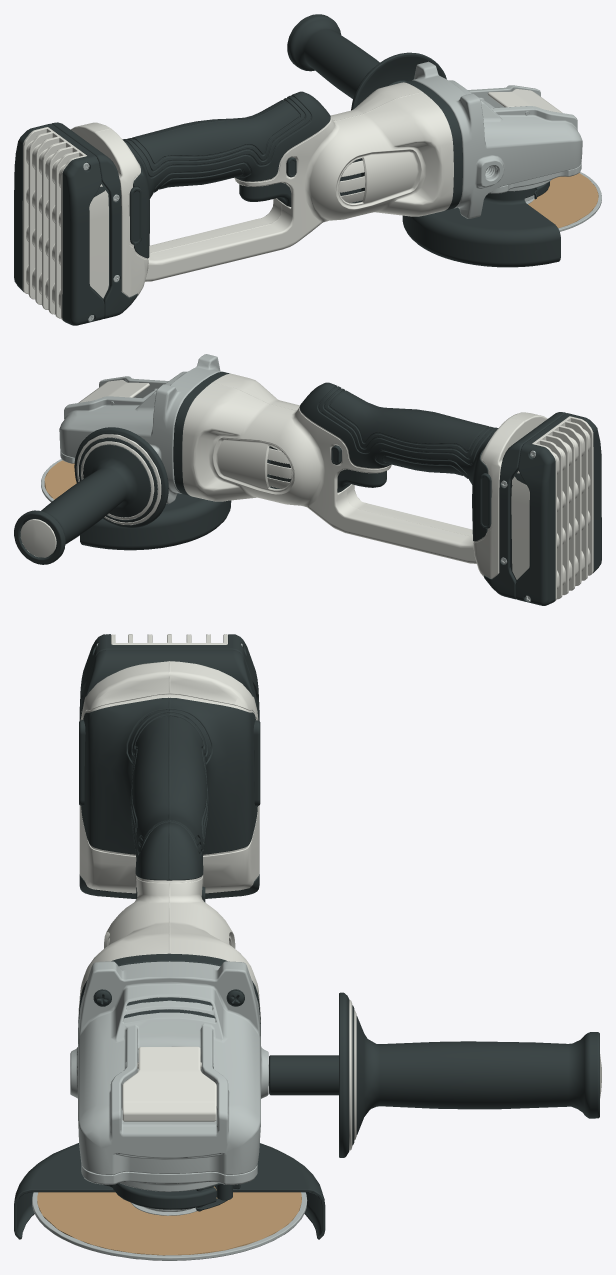
File: powerTool_grinder_a01.glb
3 views of the same model, one above another, from view 1: azimuth 30°, elevation 25°; view 2: azimuth 150°, elevation 25°; view 3: azimuth 270°, elevation 25° (orthographic). The views are drawn at different scales.
Size of the model in its own units: 0.4212 by 0.1422 by 0.267.
